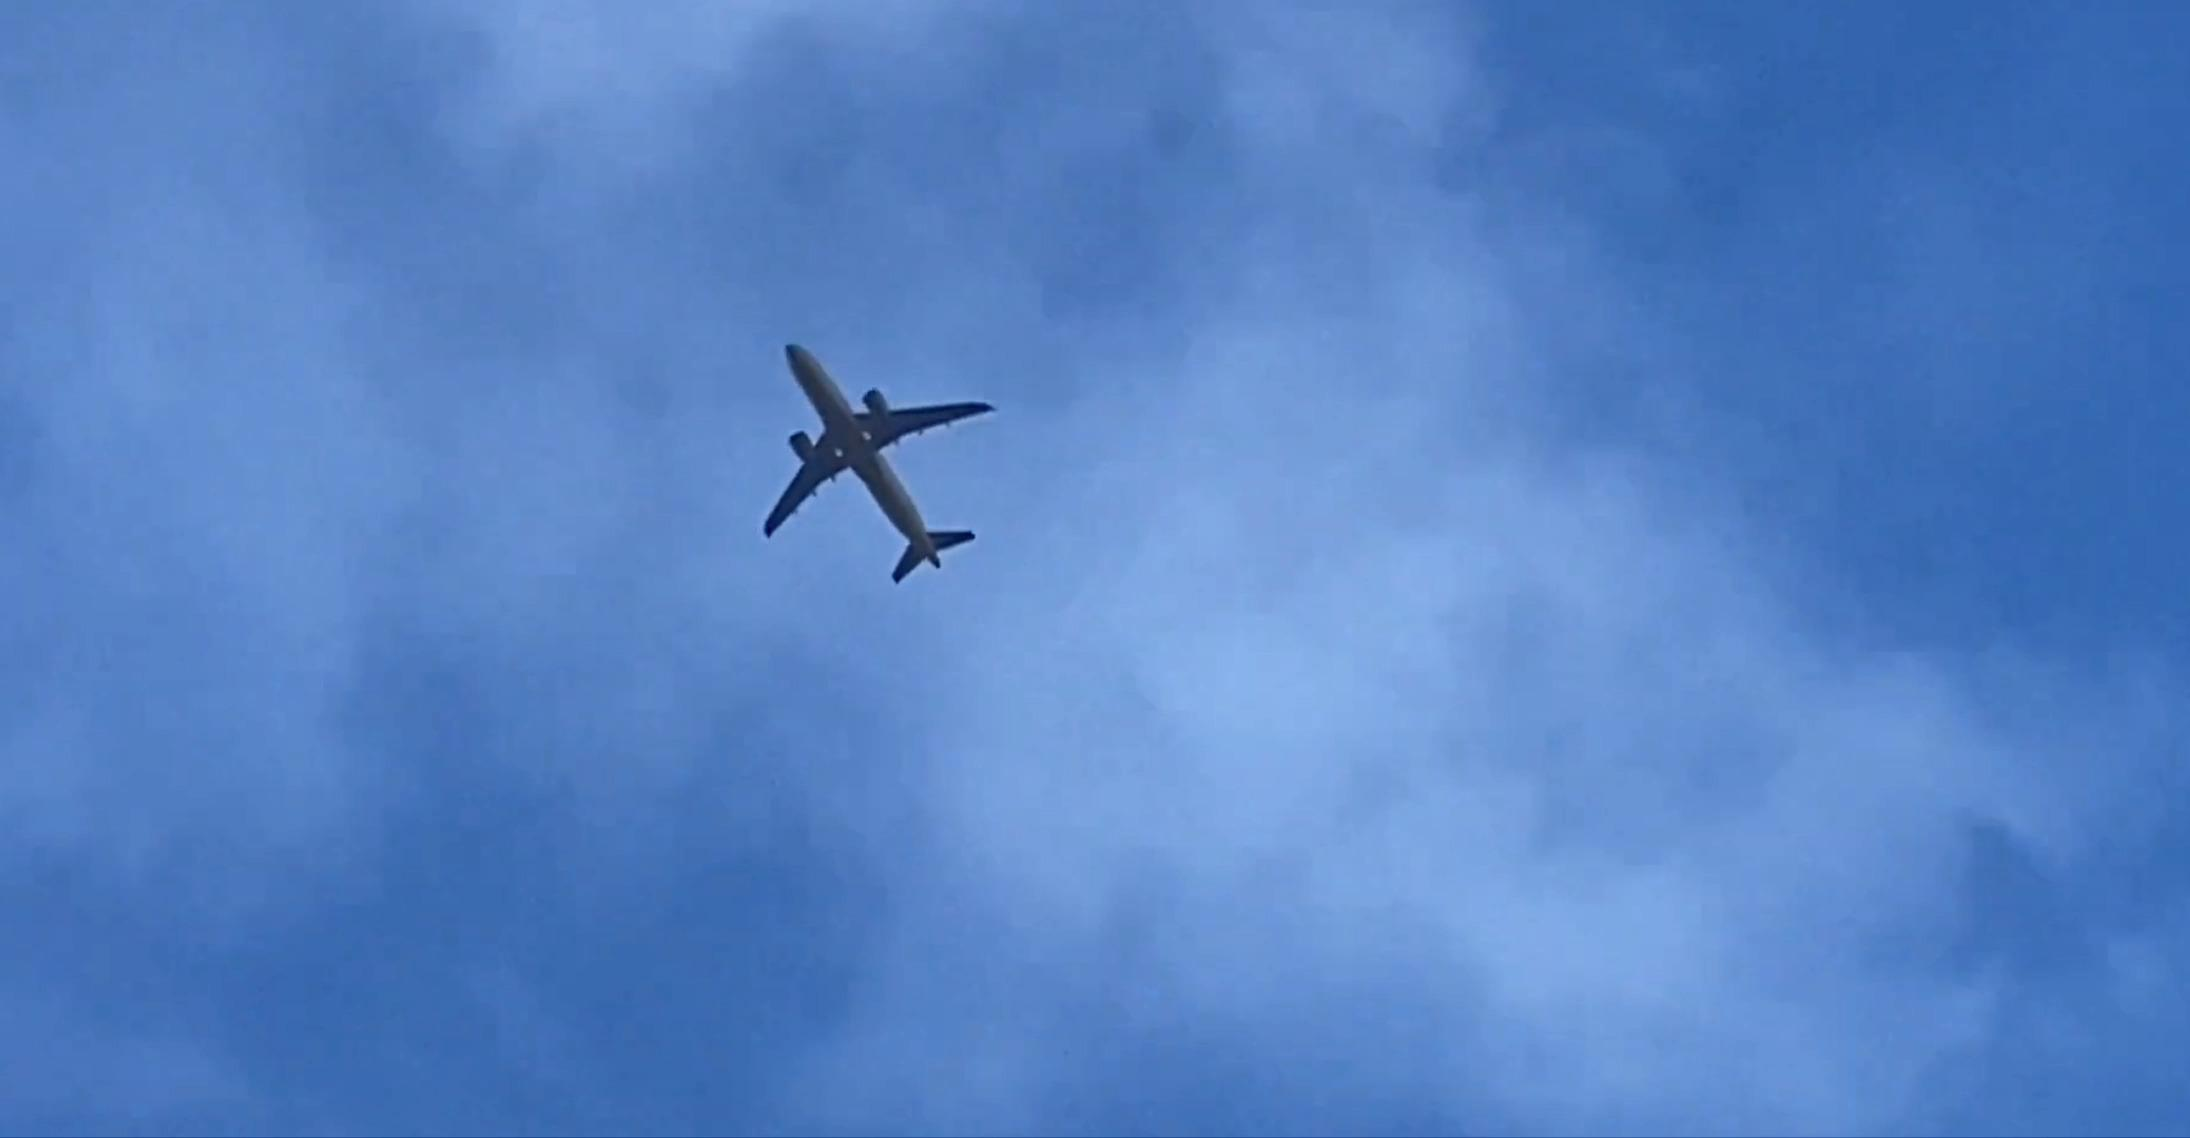Plane: (713, 321, 1015, 588)
